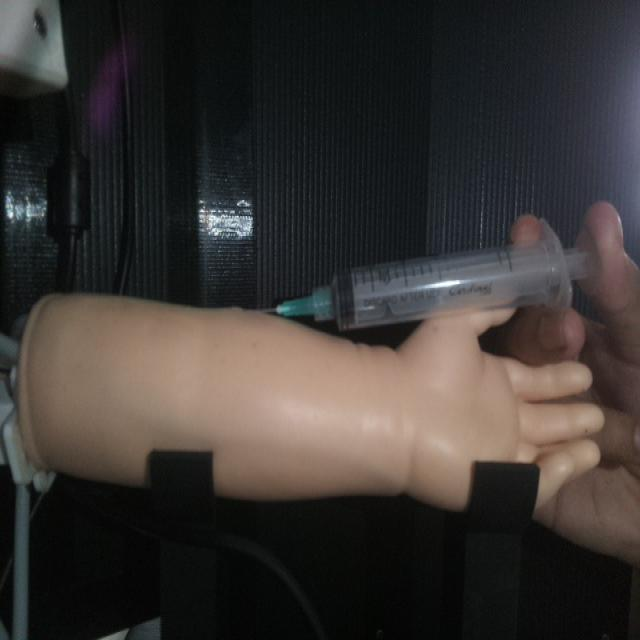Outside: (245, 210, 599, 336)
